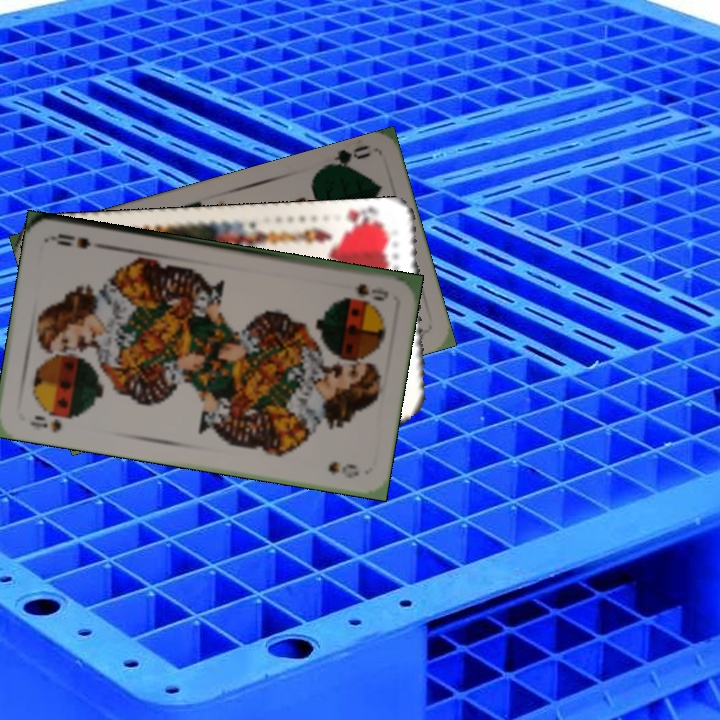GO: (317, 141, 373, 173)
HK: (340, 205, 387, 233)
SO: (350, 279, 391, 304), (26, 411, 64, 435)
